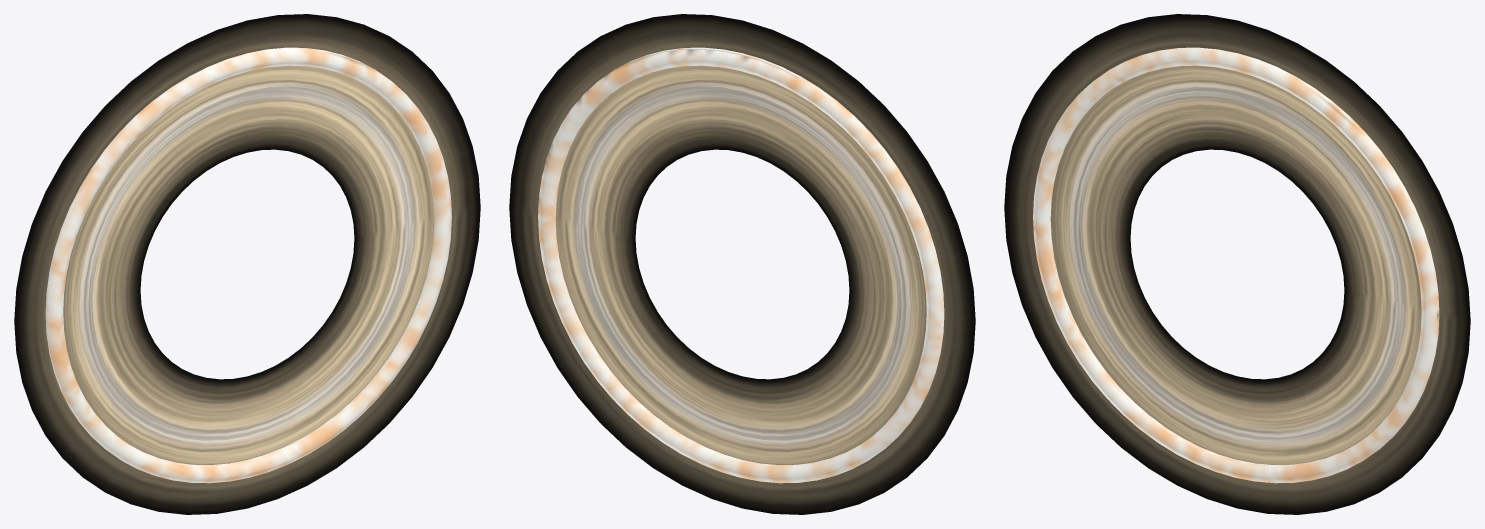
The model's file is explosion_shockwave.glb.
3 renders of one model, left to right at view 1: azimuth 30°, elevation 25°; view 2: azimuth 150°, elevation 25°; view 3: azimuth 330°, elevation 25°, orthographic.
Visible parts, largest first — view 1: shock_disc, shock_ring; view 2: shock_disc, shock_ring; view 3: shock_disc, shock_ring.
Boxes of the visible parts, x1,y1,x2,y2 form: shock_disc: (14, 14, 480, 514); shock_ring: (45, 47, 451, 483); shock_disc: (509, 14, 975, 514); shock_ring: (538, 47, 944, 483); shock_disc: (1004, 14, 1470, 514); shock_ring: (1033, 47, 1439, 483).
Size of the model in its own units: 2.4 by 2.4 by 0.09.
Materials: 2 (2 with a texture image).
